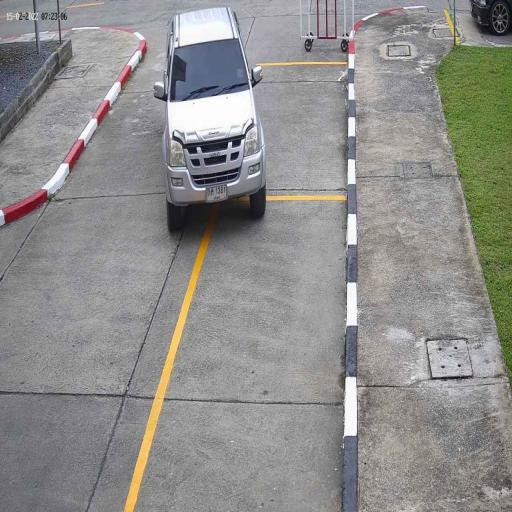car: (160, 4, 268, 234)
